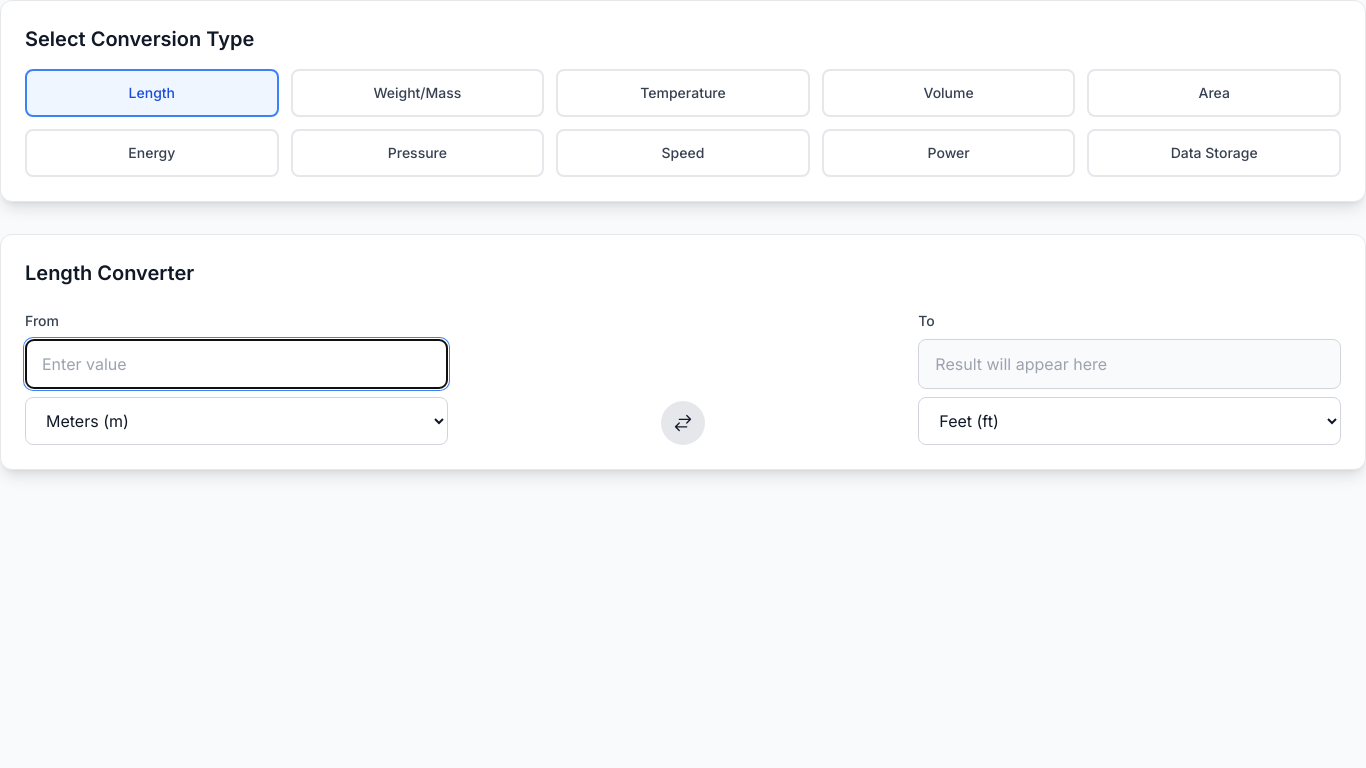
UnitConverter Component › performs real-time conversion
The width and height of the screenshot is (1366, 768).
// Find the input field and enter a value
Type "10" into the field with placeholder "Enter value".
click(236, 364); type("10")  # box [25,339,448,389]
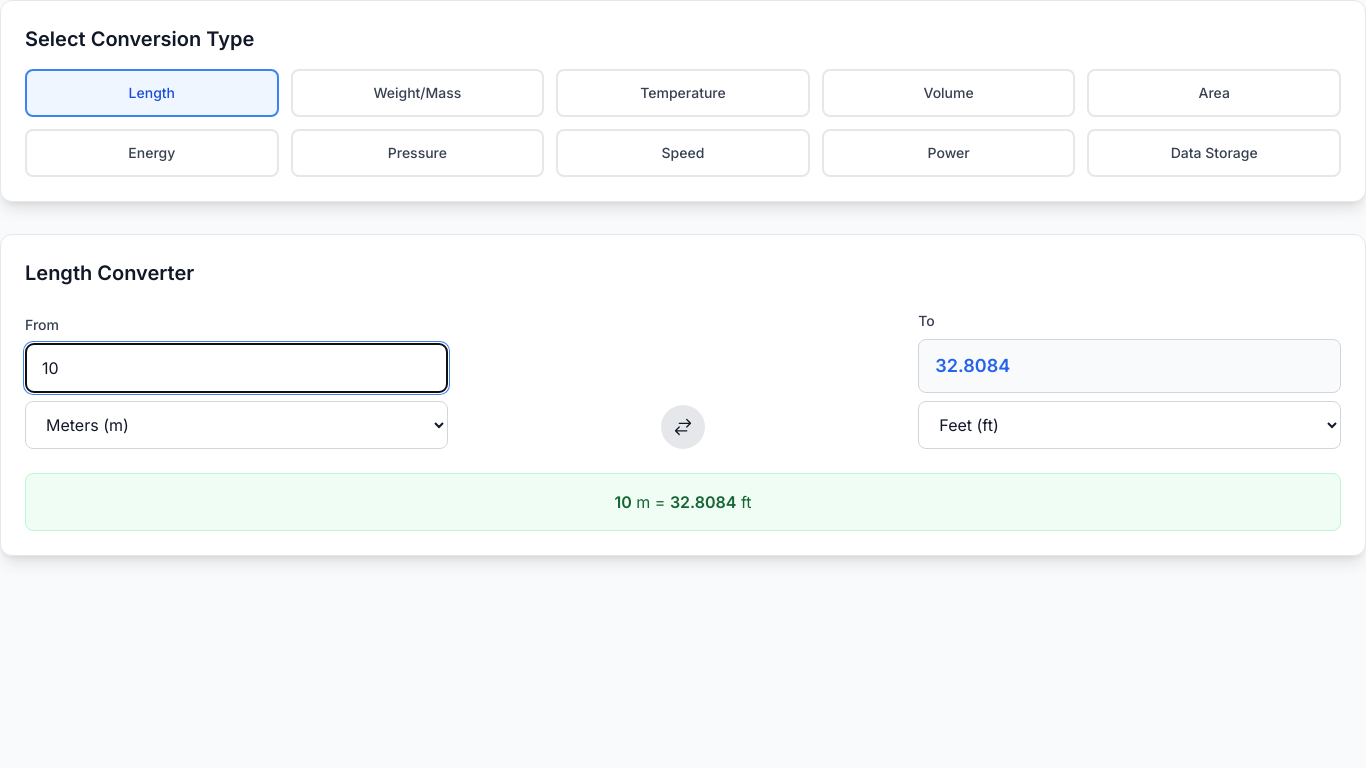
Expected: the 1st text "32.8084" is shown, [935,352,1010,380]
